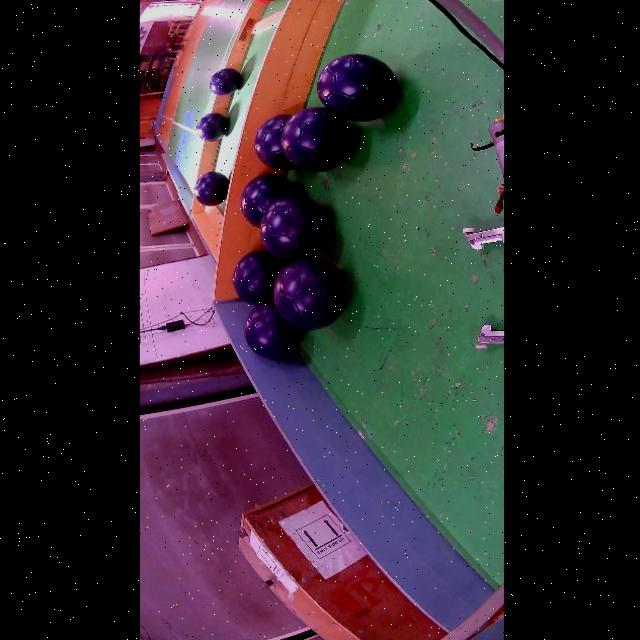B: (316, 54, 397, 121), (273, 256, 346, 330), (279, 107, 353, 172), (259, 194, 326, 262), (243, 301, 301, 360), (240, 174, 295, 227), (232, 251, 281, 305), (254, 115, 294, 170), (193, 172, 229, 206), (208, 68, 241, 96), (196, 113, 227, 141)
R: (253, 0, 275, 3)
